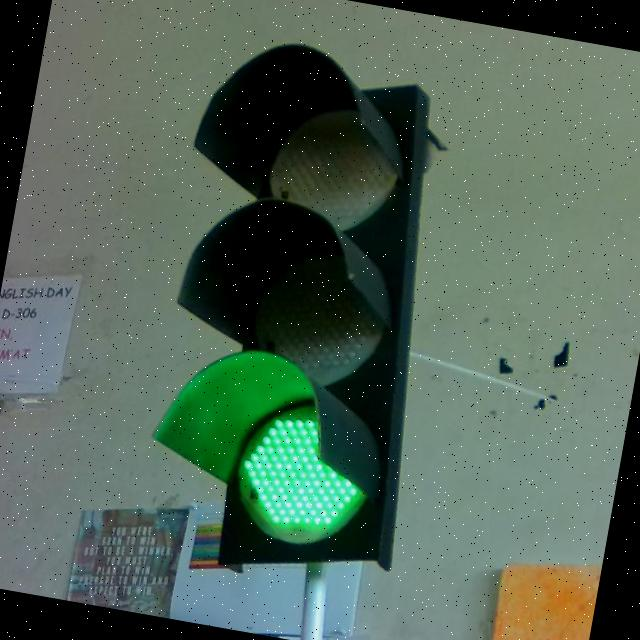green_light: (126, 28, 480, 574)
